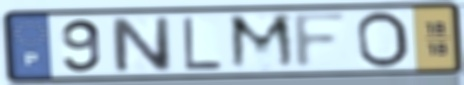9: (60, 18, 103, 73)
F: (291, 10, 353, 72)
L: (180, 15, 226, 72)
M: (226, 12, 300, 73)
N: (106, 15, 176, 74)
O: (354, 10, 413, 70)
